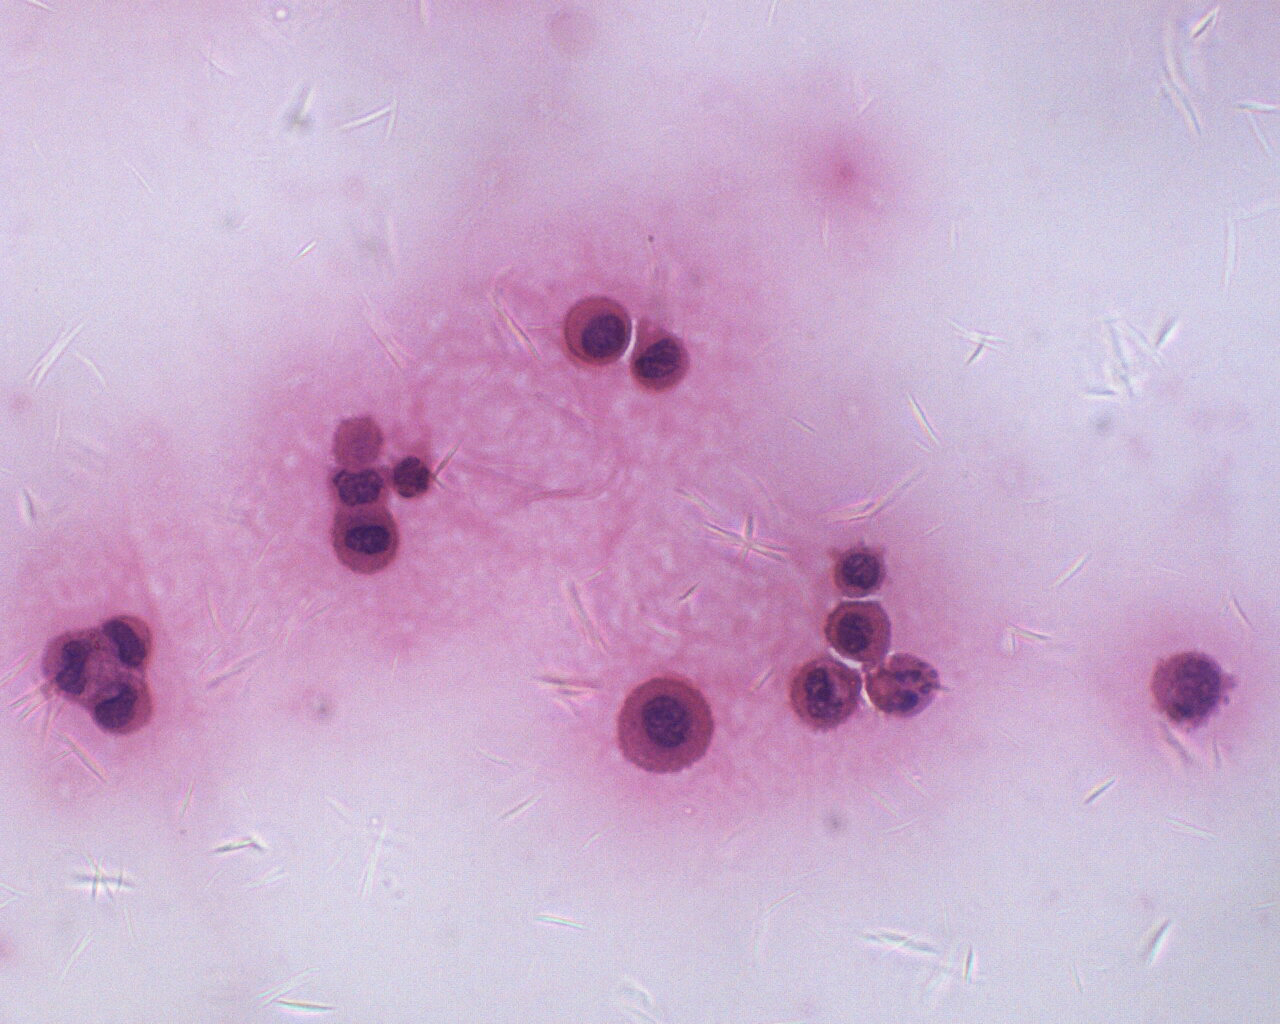ab: (88, 672, 159, 741), (832, 545, 889, 599)
meso: (608, 672, 717, 776), (560, 290, 634, 373), (323, 506, 405, 577), (827, 599, 897, 662)
